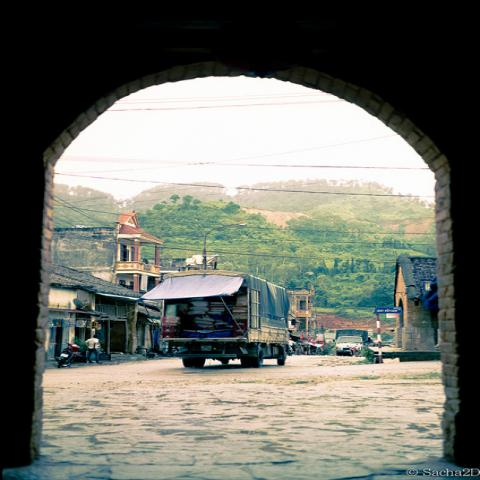motorcycle: (53, 341, 82, 369)
truck: (136, 270, 288, 368), (334, 328, 368, 356)
